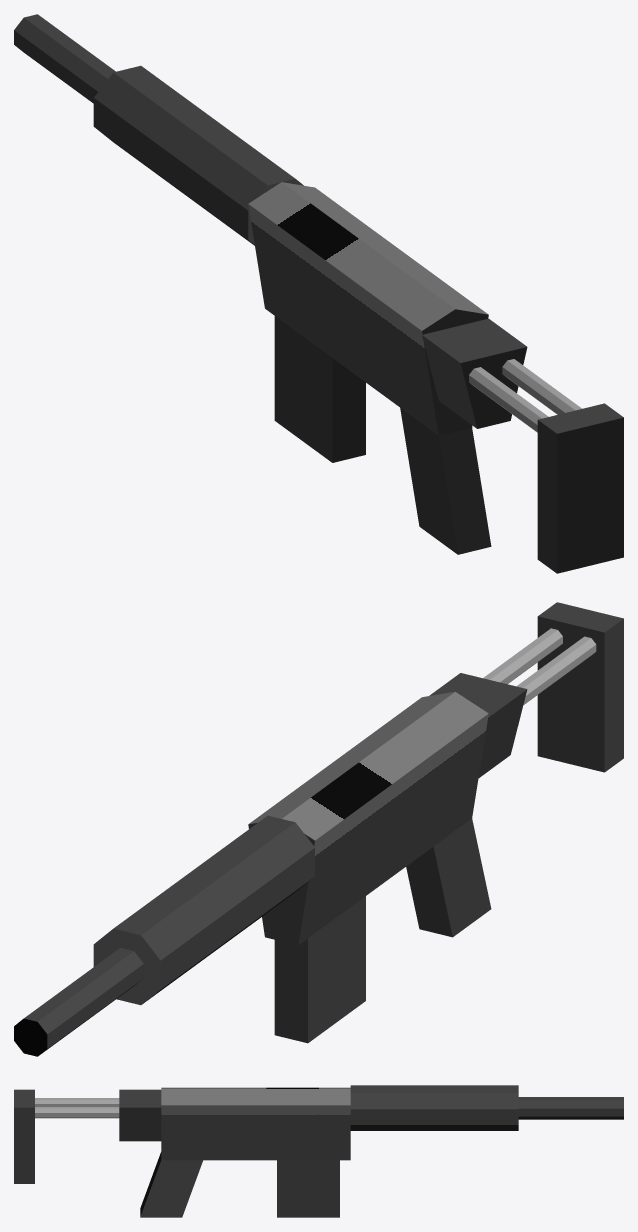
The model's file is Gun_LowPoly.fbx.
3 renders of one model, top to bottom at view 1: azimuth 30°, elevation 25°; view 2: azimuth 150°, elevation 25°; view 3: azimuth 270°, elevation 25°, orthographic. The views are drawn at different scales.
Parts seen in each view (by area): view 1: mesh; view 2: mesh; view 3: mesh.
Boxes of the visible parts, <box> form: mesh: <box>14,14,623,573</box>; mesh: <box>14,602,623,1056</box>; mesh: <box>14,1085,623,1217</box>.
Size of the model in its own units: 25 by 81.25 by 362.
Materials: 1 (1 with a texture image).
